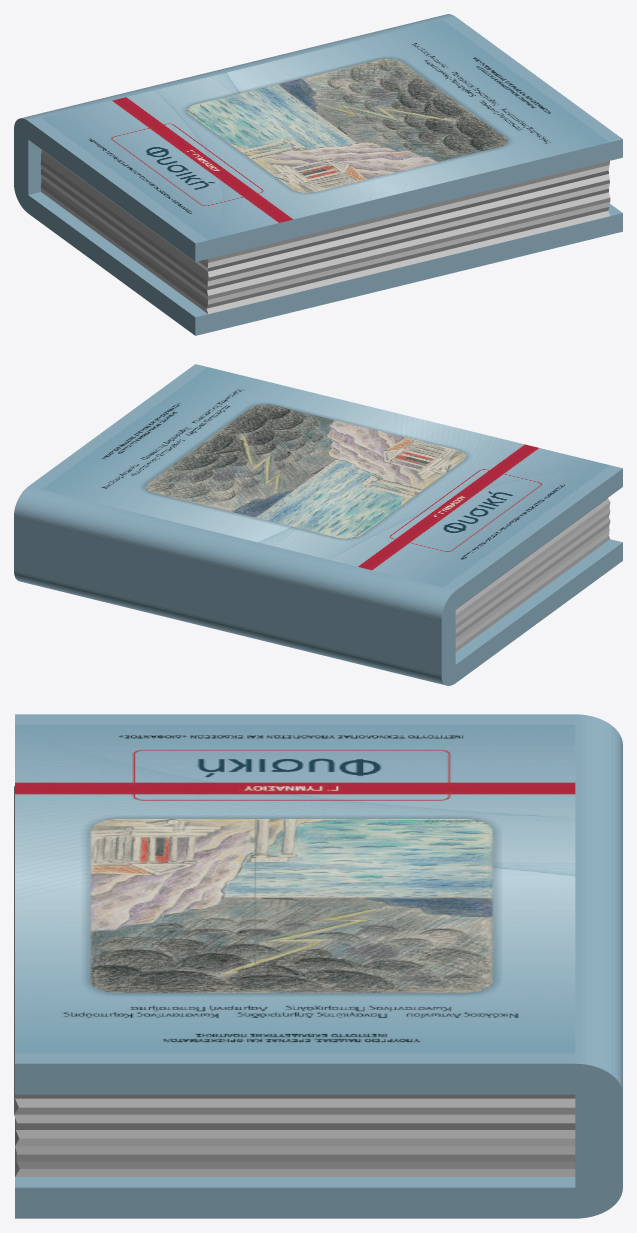
Rendered from book11.obj.
3 views of the same model, one above another, from view 1: azimuth 30°, elevation 25°; view 2: azimuth 150°, elevation 25°; view 3: azimuth 270°, elevation 25° (orthographic). The views are drawn at different scales.
Visible parts, largest first — view 1: Cube_3, Cube_1, Cube_2; view 2: Cube_3, Cube_1, Cube_2; view 3: Cube_3, Cube_1, Cube_2.
Part boxes in pixels (left/top/right/bottom): Cube_3: left=41, top=20, right=609, bottom=240; Cube_1: left=14, top=14, right=622, bottom=335; Cube_2: left=40, top=150, right=610, bottom=314; Cube_3: left=41, top=367, right=609, bottom=587; Cube_1: left=14, top=364, right=622, bottom=685; Cube_2: left=455, top=498, right=610, bottom=651; Cube_3: left=15, top=724, right=575, bottom=1053; Cube_1: left=15, top=714, right=622, bottom=1218; Cube_2: left=14, top=786, right=575, bottom=1176.
Bounding box in the file's own units: 186 × 38.44 × 137.
Materials: 3 (2 with a texture image).
